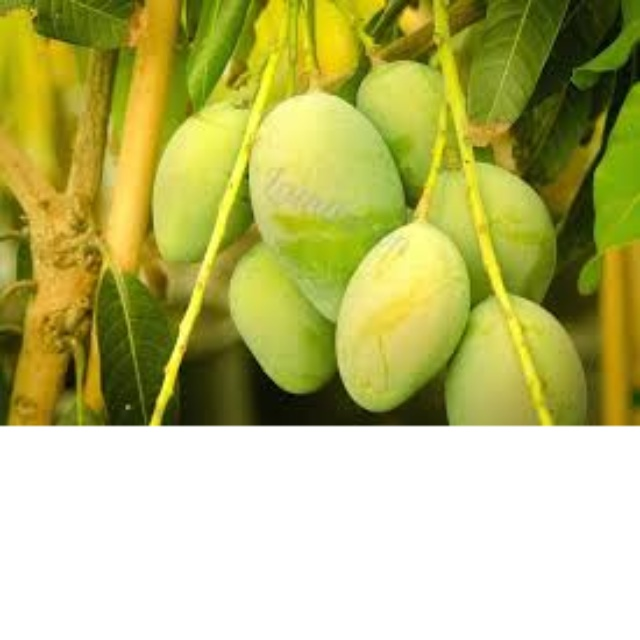thanh_long: (246, 84, 438, 313), (331, 219, 480, 412)
